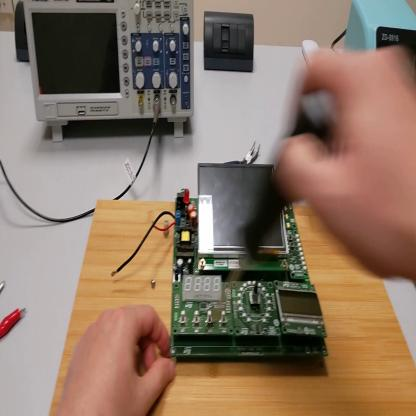hand: (276, 41, 416, 279), (56, 306, 175, 414)
low voltage board: (111, 165, 328, 362)
oscilloscope: (24, 2, 195, 144)
pliers: (229, 141, 262, 168)
screwdriver-: (214, 93, 336, 319), (2, 282, 7, 293)
socket: (15, 2, 32, 64)
welder station: (345, 3, 416, 57)
working area: (48, 201, 416, 416)
